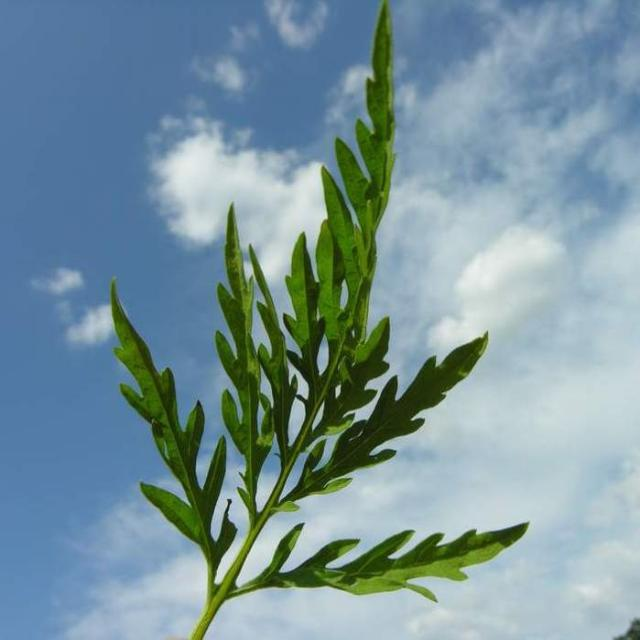ambrosia: (272, 64, 432, 480), (87, 226, 250, 603), (266, 511, 542, 616)
